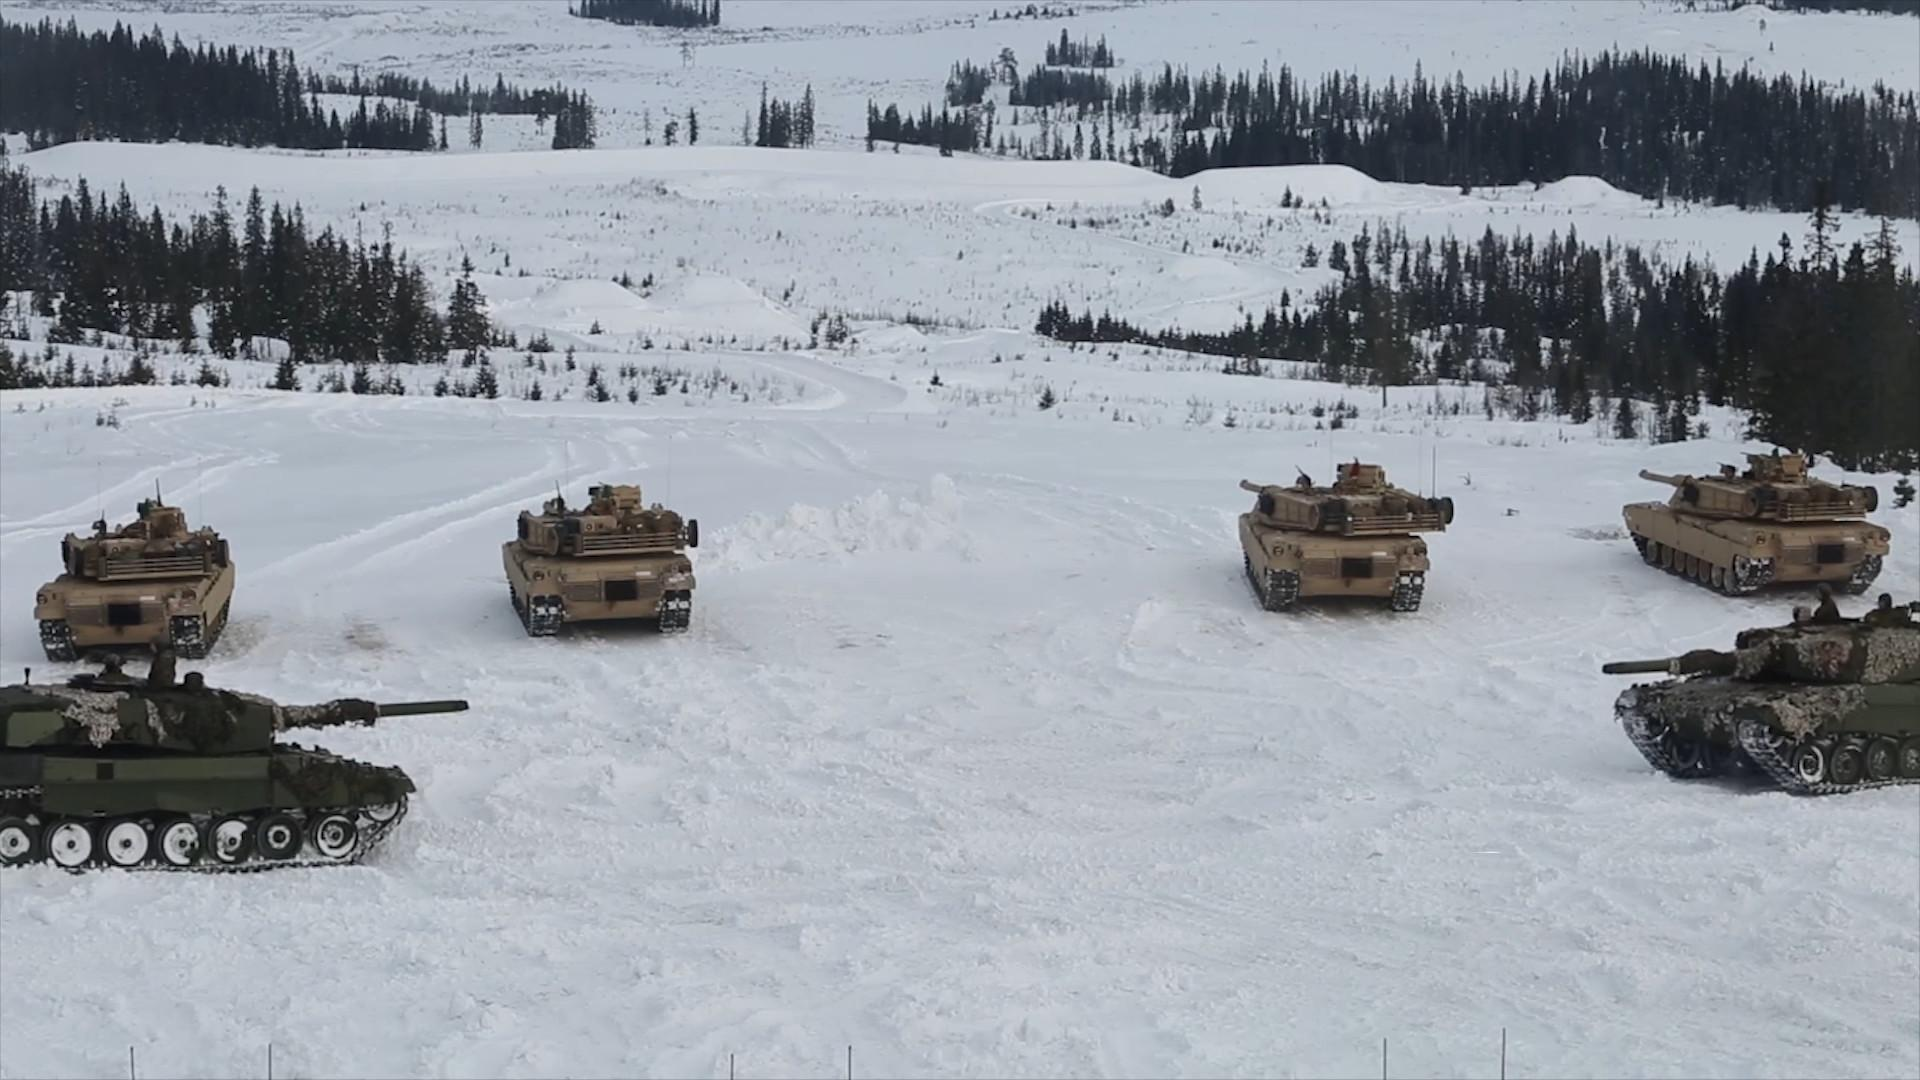tank: (3, 646, 471, 868), (1602, 605, 1916, 793), (1622, 455, 1891, 595), (34, 500, 233, 662), (1238, 463, 1455, 612), (502, 485, 698, 637)
